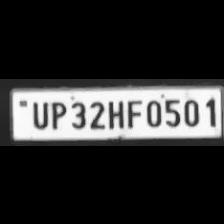0: (181, 95, 201, 127), (142, 96, 162, 127)
1: (201, 93, 221, 126)
2: (86, 97, 106, 129)
3: (67, 97, 87, 128)
5: (162, 95, 180, 127)
F: (124, 96, 142, 128)
H: (105, 96, 124, 128)
P: (47, 98, 67, 128)
U: (27, 97, 49, 128)
